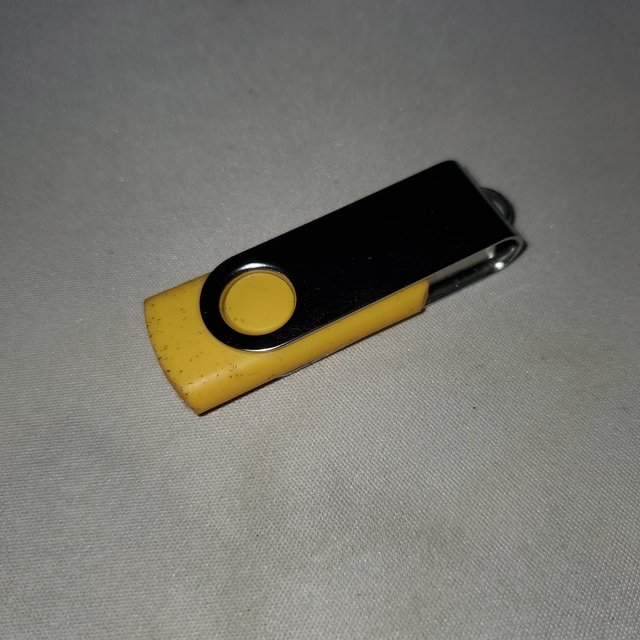usb_drive: (124, 146, 525, 426)
